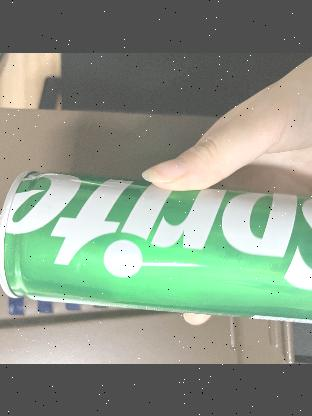Can: (0, 166, 312, 320)
